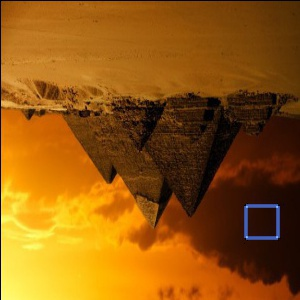square: (241, 199, 282, 244)
